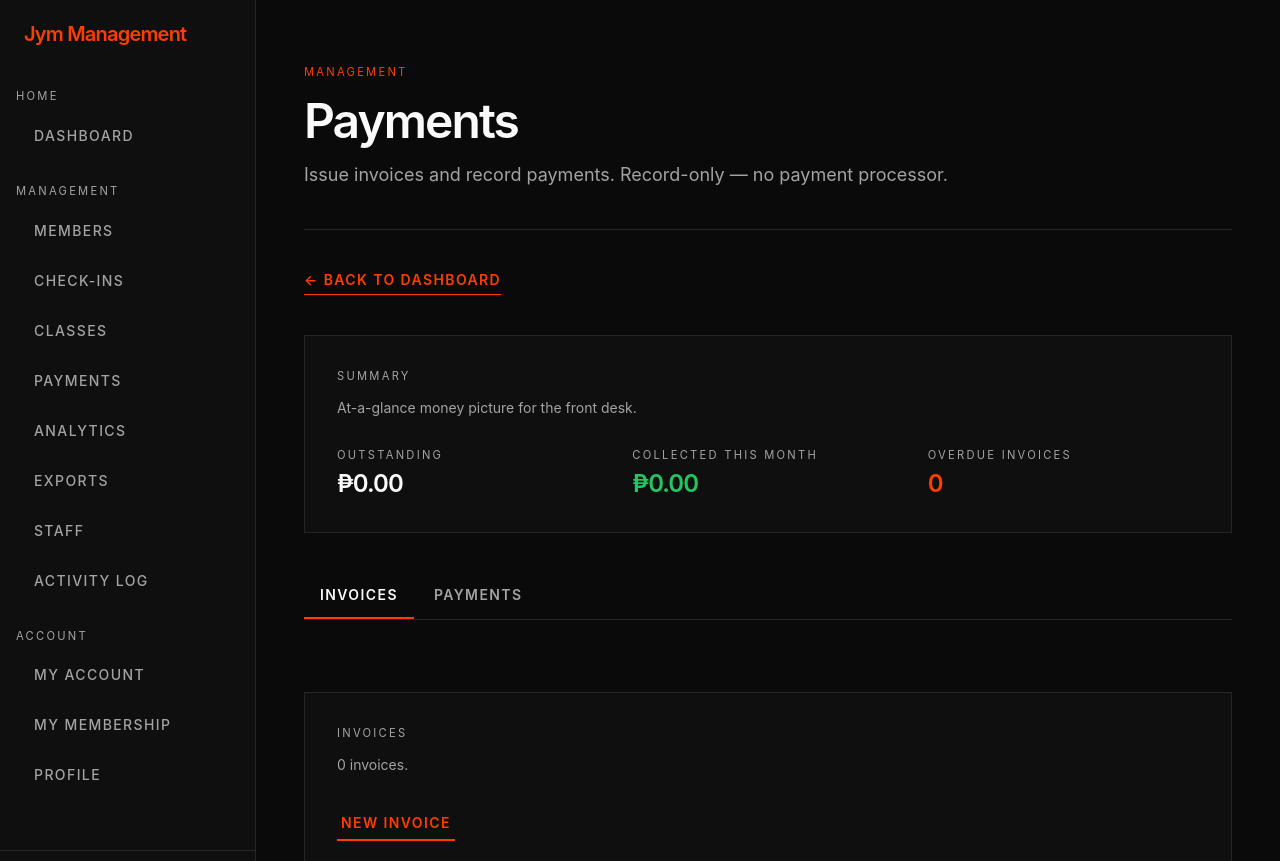
PaymentsPage › collapses the issue form behind New invoice
The width and height of the screenshot is (1280, 861).
Click the button "New invoice": (396, 823) [337,805,455,841]
(page scrolled)
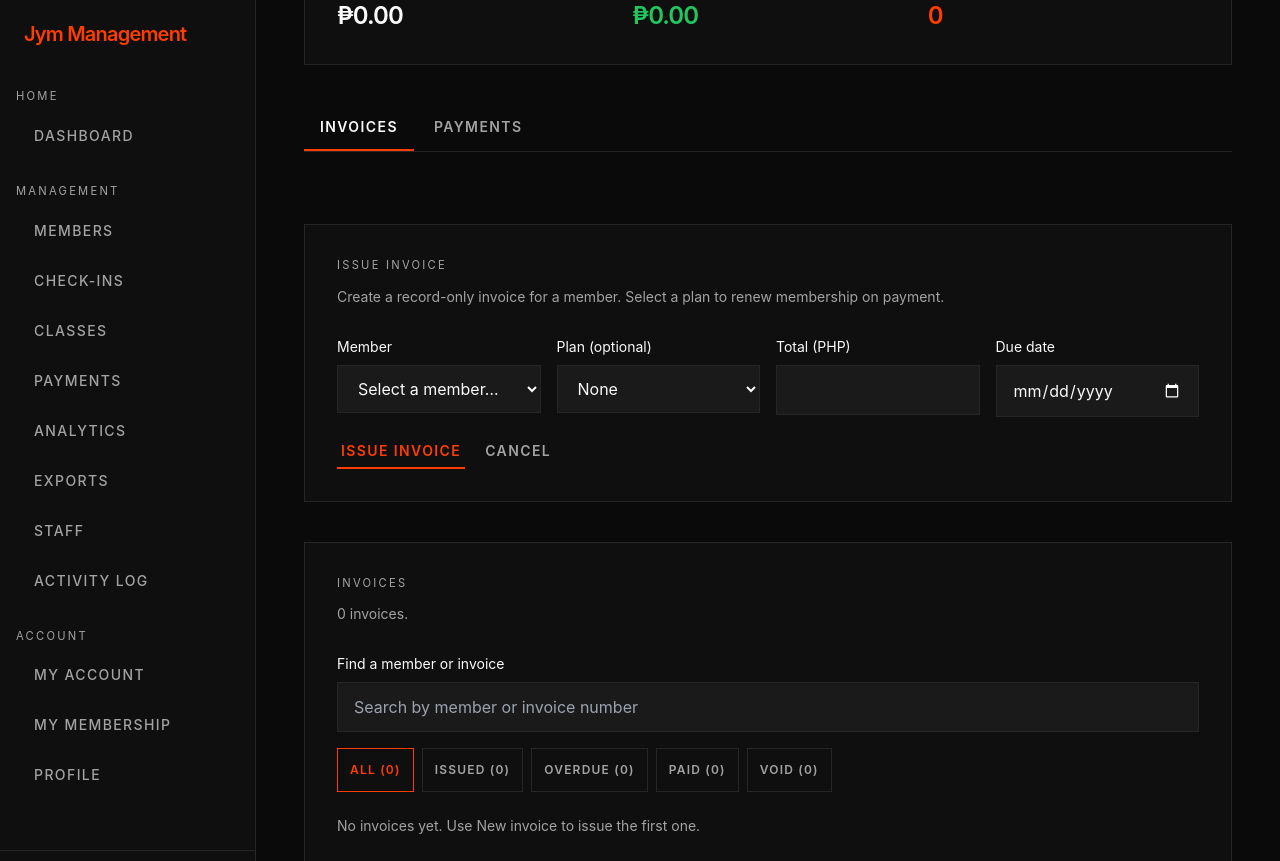
Expected: the dropdown labelled "Member" is shown, [337,365,540,413]
Click the button "Cancel": (518, 451) [481,433,555,469]
(page scrolled)
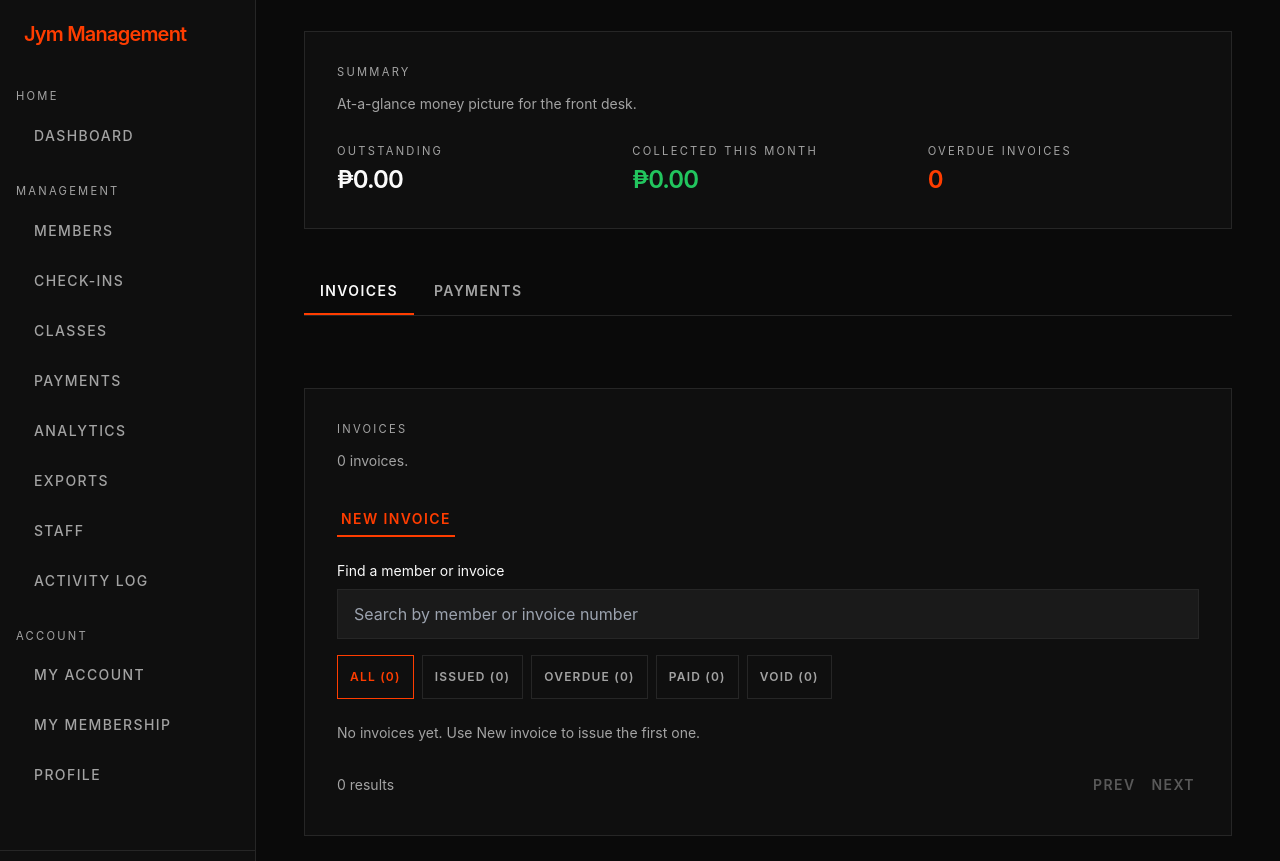
Expected: the button "New invoice" is shown, [337,501,455,537]
